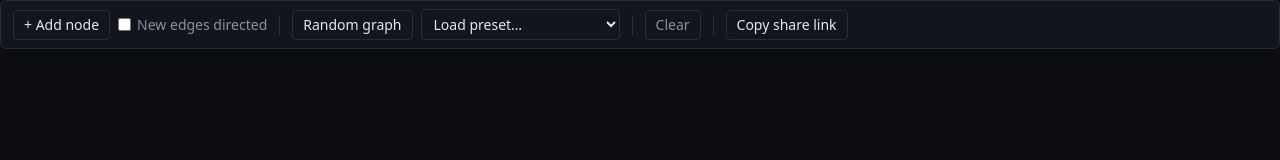
Scenario: GraphToolbar › toggles add-node mode when clicked
The width and height of the screenshot is (1280, 160).
Step 1. Click the button "+ Add node" → coordinates (62, 24), box x1=13 y1=10 x2=110 y2=40
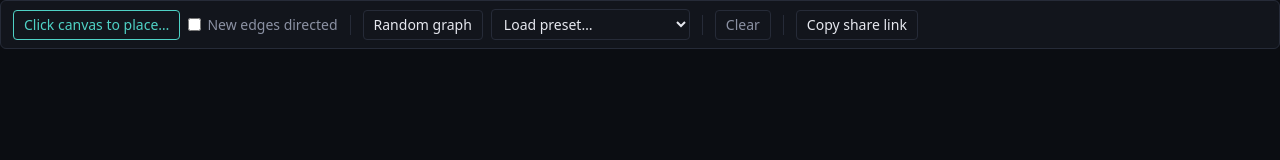
Expected: the button "Click canvas to place…" is shown, x1=13 y1=10 x2=180 y2=40
